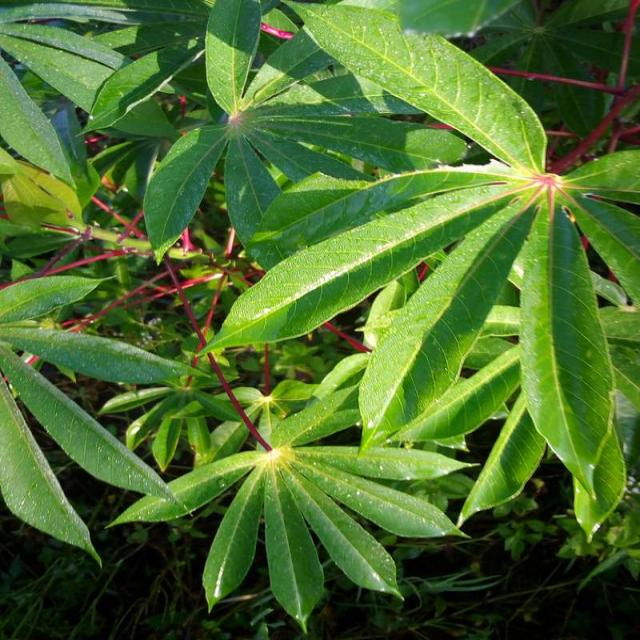Mosaico: (477, 134, 616, 271), (231, 425, 347, 508)
